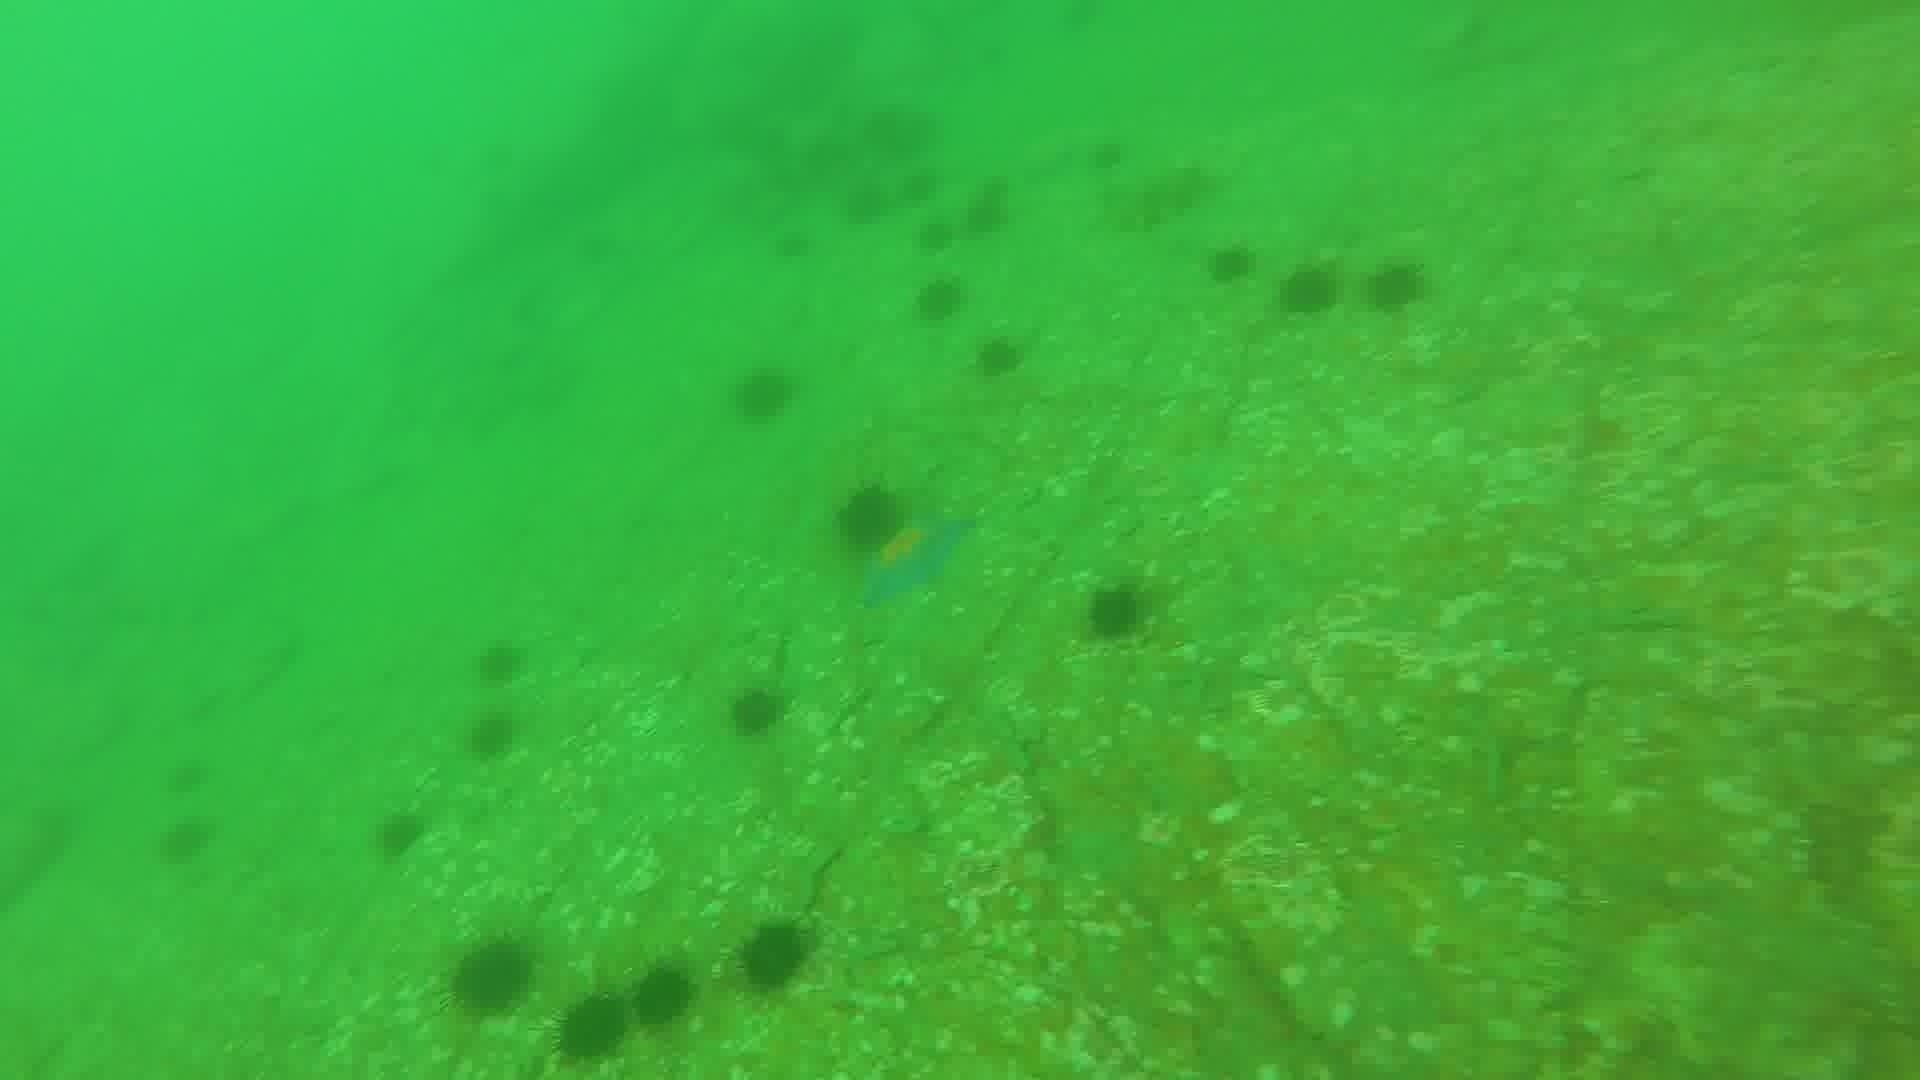echinus: (443, 935, 538, 1021), (733, 914, 818, 996), (549, 988, 636, 1067), (829, 480, 910, 556), (858, 98, 942, 164), (626, 959, 700, 1031), (1079, 579, 1154, 647), (727, 363, 800, 427), (723, 680, 793, 741), (1274, 261, 1342, 322), (1362, 256, 1431, 316), (369, 806, 431, 864), (960, 177, 1015, 241), (154, 814, 218, 869), (462, 709, 522, 765), (910, 273, 969, 327), (469, 636, 530, 688), (1201, 237, 1259, 290), (837, 177, 894, 229), (971, 332, 1029, 382), (162, 753, 214, 799), (767, 223, 818, 266), (913, 214, 957, 258), (1087, 135, 1129, 175)
holothurian: (1102, 157, 1218, 235)
starfish: (855, 502, 975, 609)
